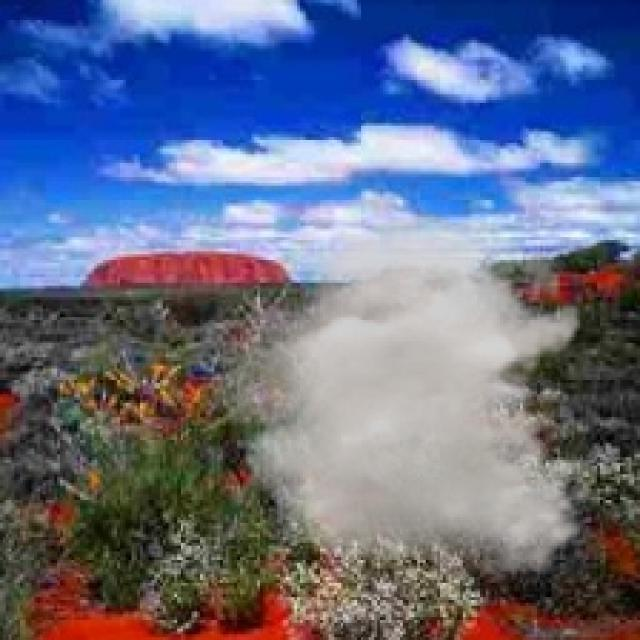smoke: (194, 214, 597, 577)
